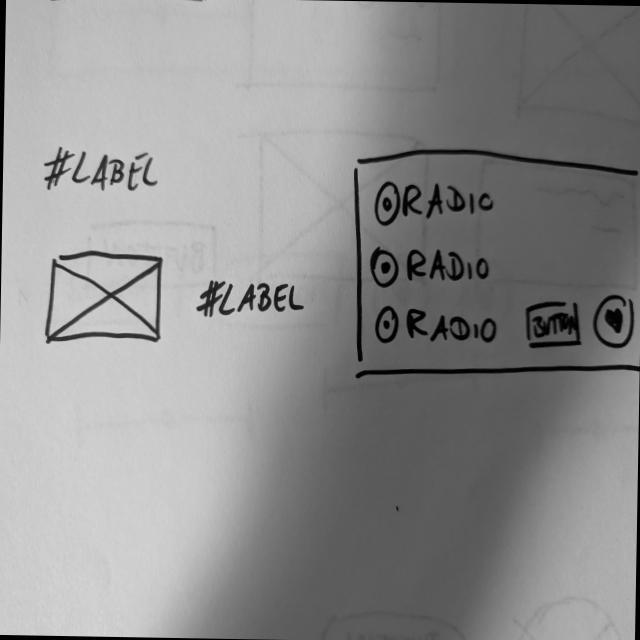button: (522, 296, 584, 354)
container: (348, 145, 640, 383)
icon-button: (591, 292, 636, 350)
image: (42, 248, 166, 346)
label: (42, 144, 162, 196), (192, 276, 309, 324)
radio: (372, 177, 497, 230), (373, 303, 498, 348), (368, 246, 492, 290)
